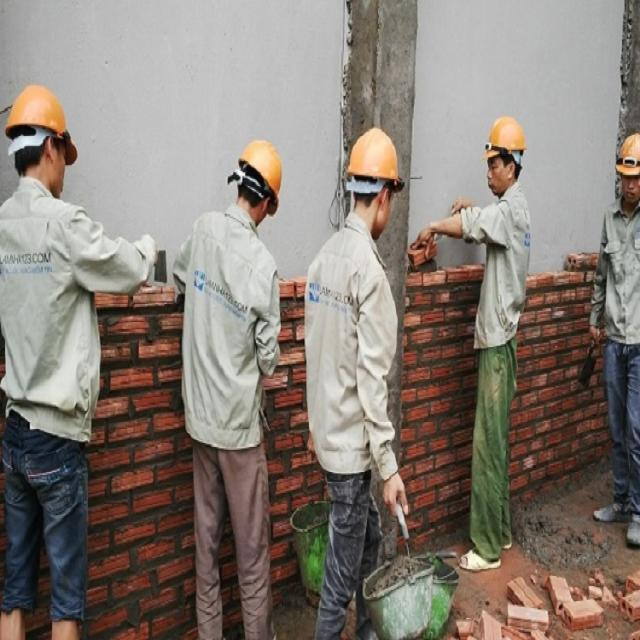boots: (598, 492, 633, 528), (624, 502, 638, 549)
hardhat: (6, 81, 80, 169), (344, 122, 404, 194), (236, 134, 284, 206), (482, 111, 524, 162), (614, 135, 640, 178)
no_boots: (458, 546, 498, 567)
no_gloves: (385, 464, 407, 518), (137, 228, 157, 277), (415, 222, 435, 246), (453, 201, 476, 221), (590, 323, 600, 347)
no_vest: (0, 191, 145, 434), (306, 208, 407, 497), (174, 198, 281, 454), (460, 188, 533, 346), (589, 205, 640, 345)
person: (0, 79, 157, 640), (298, 127, 411, 640), (172, 137, 282, 640), (416, 115, 531, 579), (589, 130, 640, 552)
